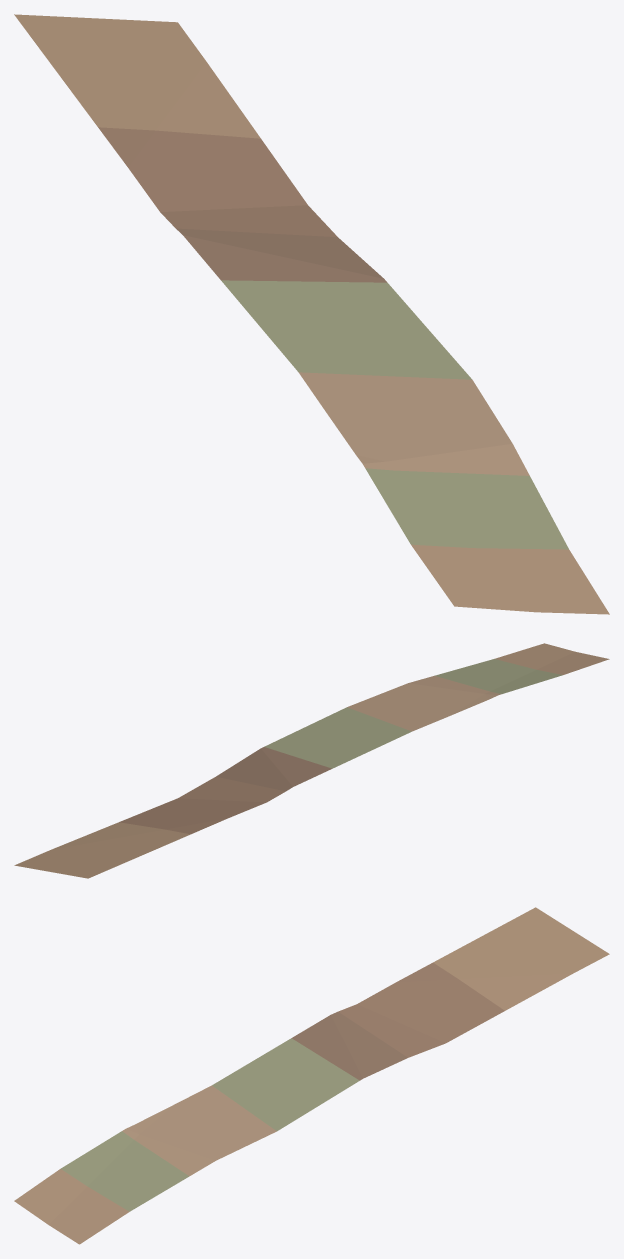
Rendered from farm_16_2_soil.glb.
The picture shows the model from 3 angles, top to bottom: view 1: azimuth 30°, elevation 25°; view 2: azimuth 150°, elevation 25°; view 3: azimuth 330°, elevation 25°; orthographic projection. The views are drawn at different scales.
Parts seen in each view (by area): view 1: geometry_0; view 2: geometry_0; view 3: geometry_0.
Part boxes in pixels (bbox=[...]): geometry_0: bbox=[14, 14, 609, 614]; geometry_0: bbox=[14, 643, 609, 878]; geometry_0: bbox=[14, 907, 609, 1244].
Size of the model in its own units: 56.16 by 12.75 by 185.
